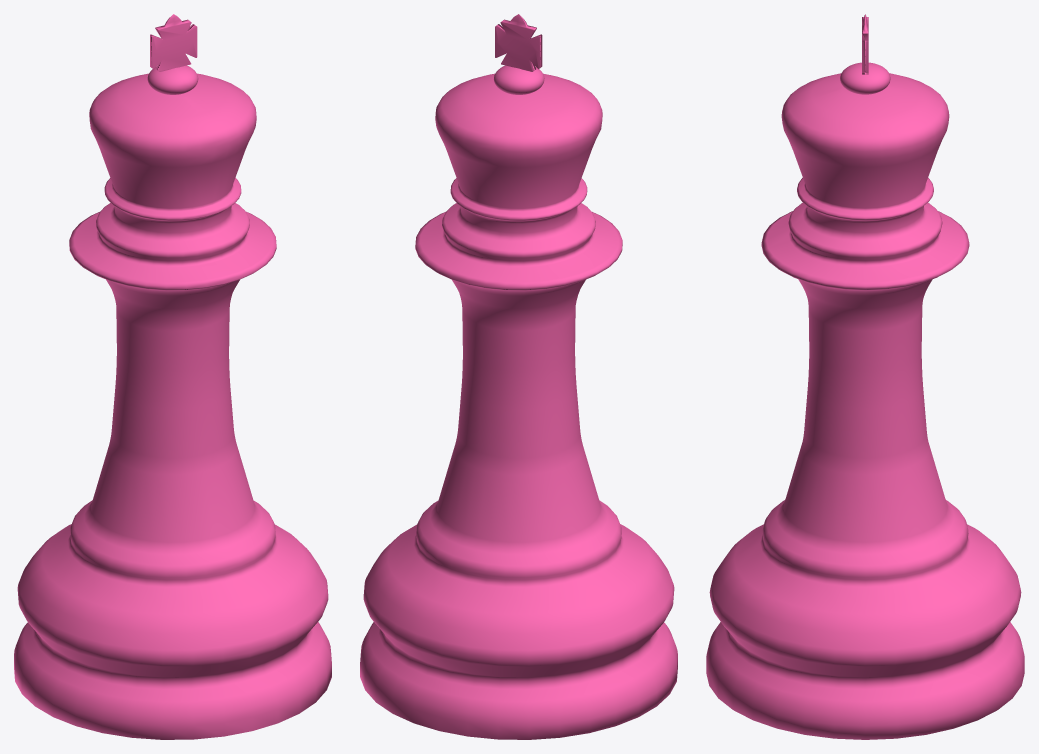
File: dark_king_1.fbx
3 views of the same model, side by side, from view 1: azimuth 30°, elevation 25°; view 2: azimuth 150°, elevation 25°; view 3: azimuth 270°, elevation 25° (orthographic).
Visible parts, largest first — view 1: Dark King1; view 2: Dark King1; view 3: Dark King1.
Boxes of the visible parts, left/top/right/bottom form: Dark King1: left=14, top=14, right=331, bottom=739; Dark King1: left=360, top=14, right=677, bottom=739; Dark King1: left=706, top=14, right=1024, bottom=739.
Size of the model in its own units: 99.47 by 227 by 99.47.
